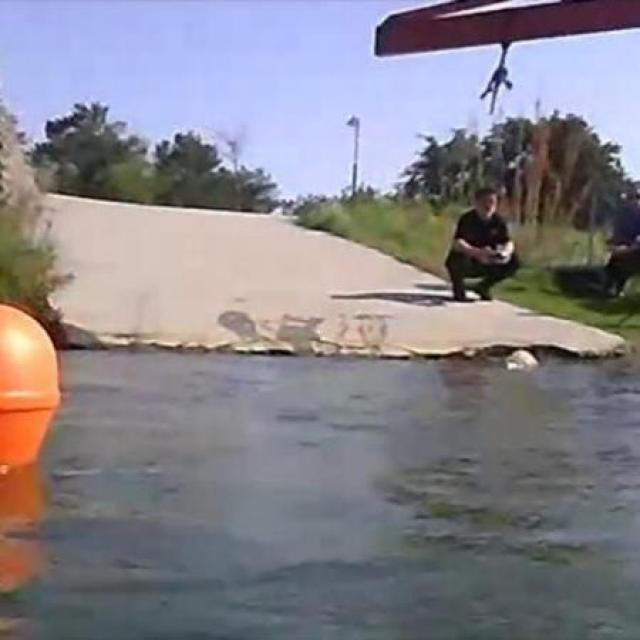buoy: (0, 304, 58, 464)
